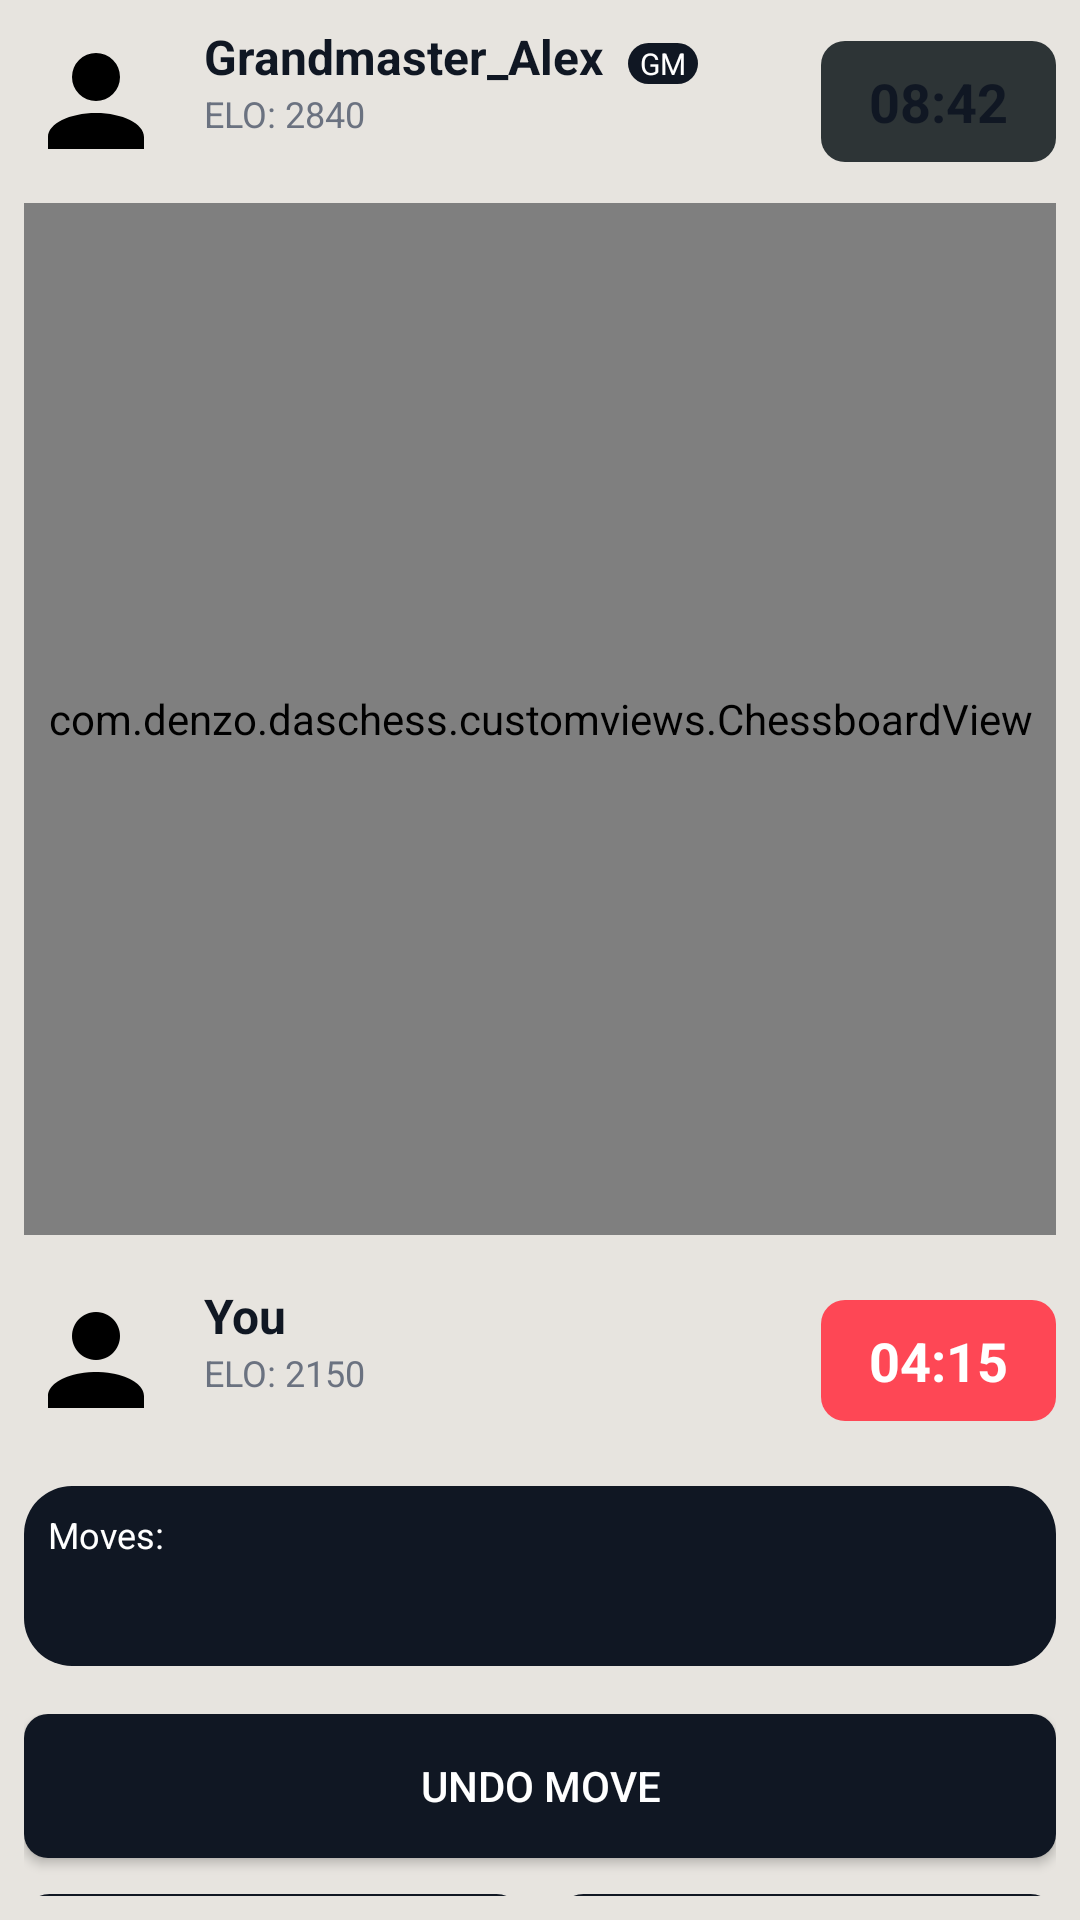

Icons on this 1080 x 1920 Android screen, each with the point to tap as (x,y):
profile: (96,101), (96,1360)
